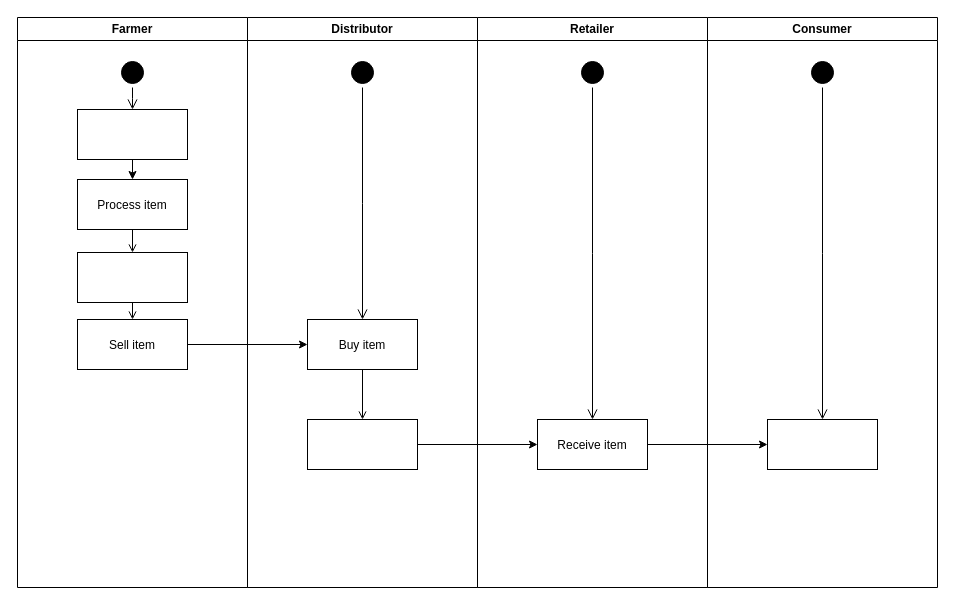
Image size: 955x605. Some labels were removed from this diagram. Here are the shapes that lost their labels. From the top down, the centre of each, then its label:
At [132,134]: "Harvest item".
At [132,277]: "Pack item".
At [362,444]: "Ship item".
At [822,444]: "Purchase item".
